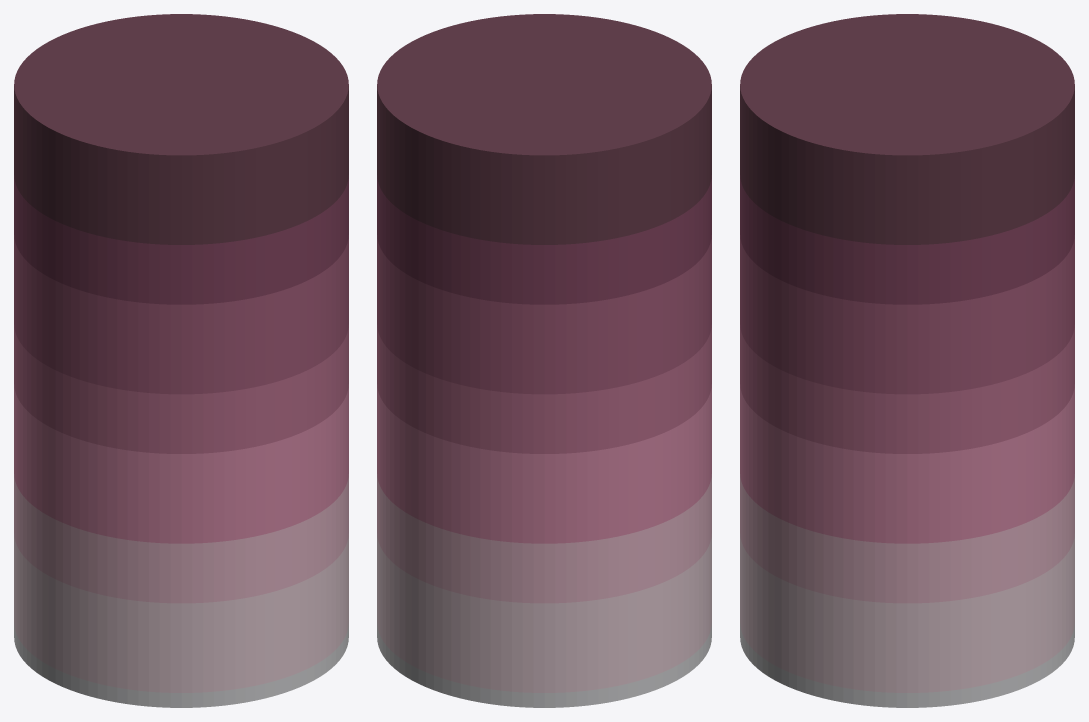
File: cake_4in_layers4.glb
3 renders of one model, left to right at view 1: azimuth 30°, elevation 25°; view 2: azimuth 150°, elevation 25°; view 3: azimuth 270°, elevation 25°, orthographic.
Parts seen in each view (by area): view 1: geometry_6, geometry_4, geometry_2, geometry_0, geometry_1, geometry_5, geometry_3, geometry_7; view 2: geometry_6, geometry_4, geometry_2, geometry_0, geometry_1, geometry_5, geometry_3, geometry_7; view 3: geometry_6, geometry_4, geometry_2, geometry_0, geometry_1, geometry_5, geometry_3, geometry_7.
Part boxes in pixels (bbox=[...]): geometry_6: bbox=[14, 14, 348, 244]; geometry_4: bbox=[14, 235, 348, 394]; geometry_2: bbox=[14, 384, 348, 543]; geometry_0: bbox=[14, 534, 348, 692]; geometry_1: bbox=[14, 474, 348, 603]; geometry_5: bbox=[14, 175, 348, 304]; geometry_3: bbox=[14, 325, 348, 453]; geometry_7: bbox=[14, 623, 348, 707]; geometry_6: bbox=[377, 14, 711, 244]; geometry_4: bbox=[377, 235, 711, 394]; geometry_2: bbox=[377, 384, 711, 543]; geometry_0: bbox=[377, 534, 711, 692]; geometry_1: bbox=[377, 474, 711, 603]; geometry_5: bbox=[377, 175, 711, 304]; geometry_3: bbox=[377, 325, 711, 453]; geometry_7: bbox=[377, 623, 711, 707]; geometry_6: bbox=[740, 14, 1074, 244]; geometry_4: bbox=[740, 235, 1074, 394]; geometry_2: bbox=[740, 384, 1074, 543]; geometry_0: bbox=[740, 534, 1074, 692]; geometry_1: bbox=[740, 474, 1074, 603]; geometry_5: bbox=[740, 175, 1074, 304]; geometry_3: bbox=[740, 325, 1074, 453]; geometry_7: bbox=[740, 623, 1074, 707].
Size of the model in its own units: 0.1016 by 0.185 by 0.1016.
